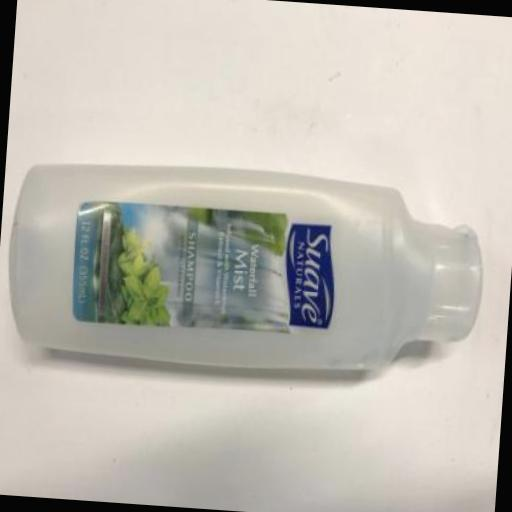plastic: (0, 152, 486, 383)
